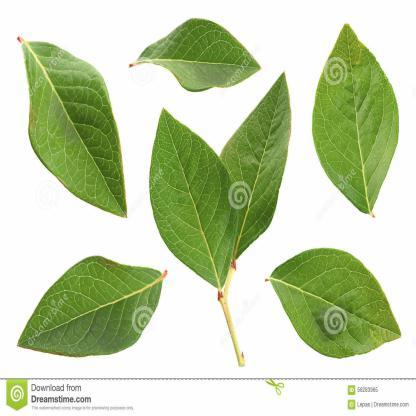Blueberry leaf: (16, 35, 136, 230), (312, 12, 407, 232), (147, 84, 233, 290), (262, 241, 408, 362), (19, 253, 174, 363), (219, 58, 300, 260), (134, 11, 267, 100)
